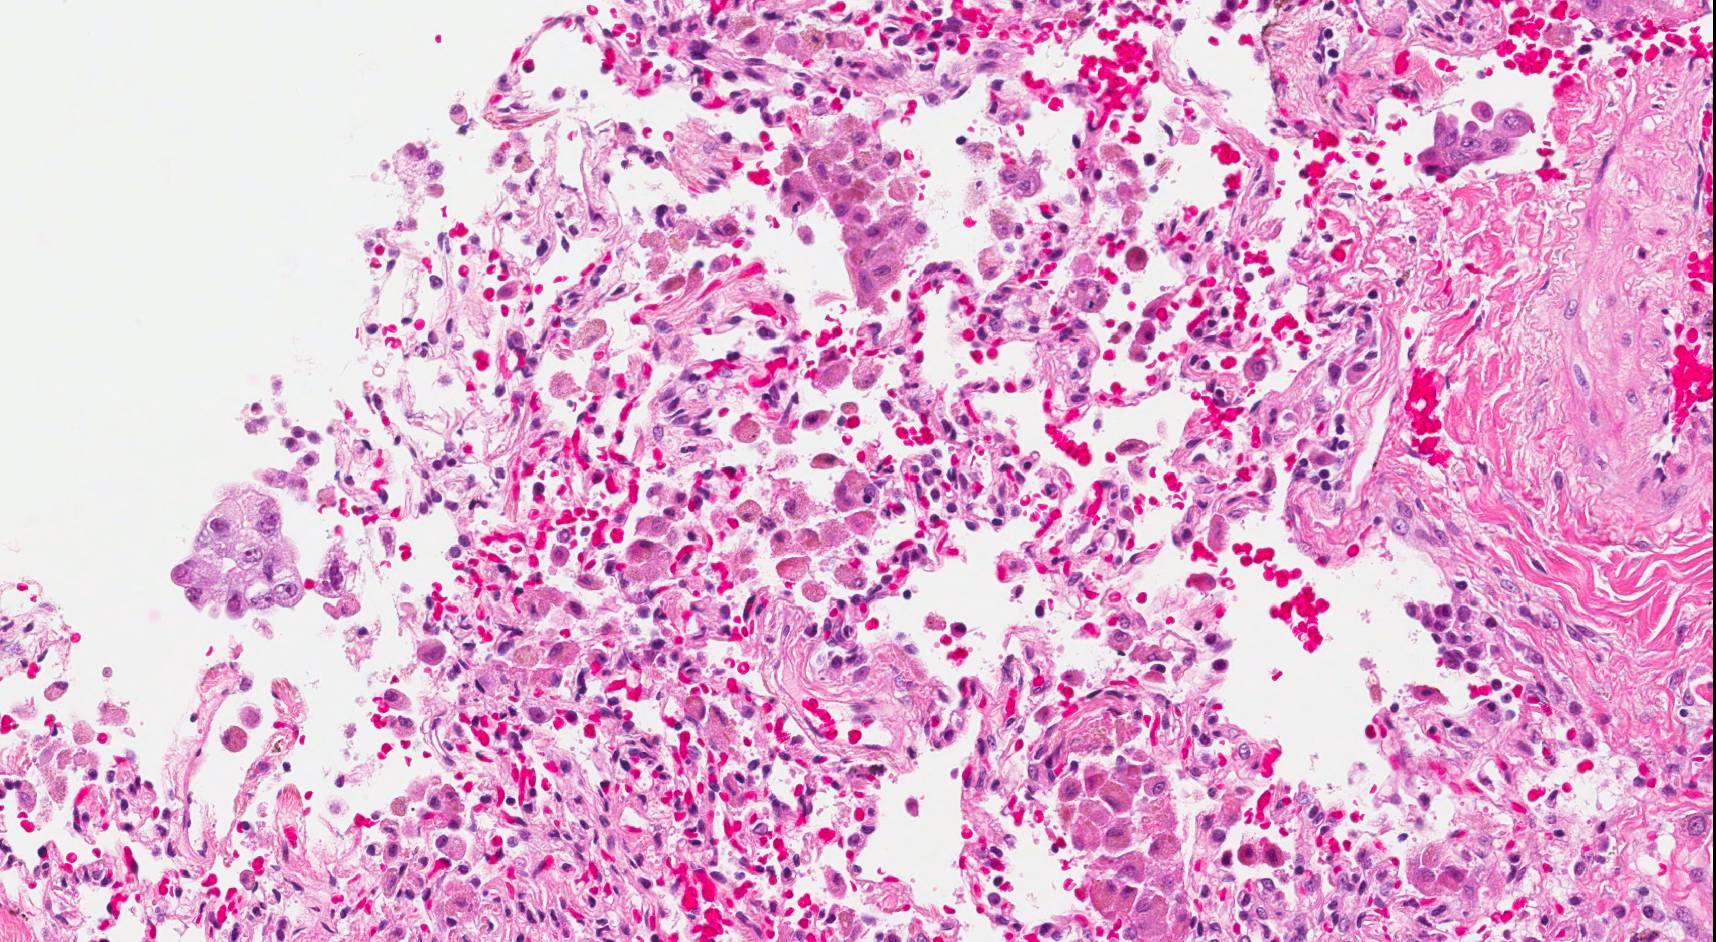stas: (169, 489, 307, 620), (1418, 102, 1533, 180)
